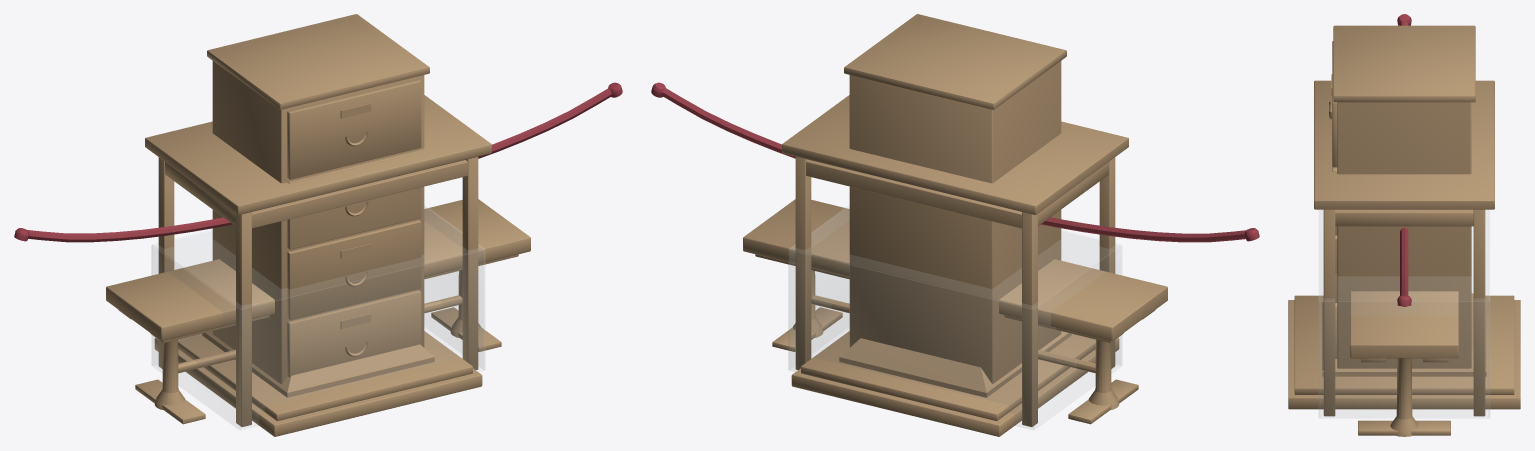
File: kit.d438275e.glb
3 renders of one model, left to right at view 1: azimuth 30°, elevation 25°; view 2: azimuth 150°, elevation 25°; view 3: azimuth 270°, elevation 25°, orthographic. The views are drawn at different scales.
Parts seen in each view (by area): view 1: archive-cabinet, vitrine-table, bench, plinth-tapered, vitrine-glass, rope-span; view 2: archive-cabinet, vitrine-table, bench, plinth-tapered, vitrine-glass, rope-span; view 3: archive-cabinet, vitrine-table, plinth-tapered, bench, vitrine-glass, rope-span.
Boxes of the visible parts, <box> form: archive-cabinet: <box>207,14,429,383</box>; vitrine-table: <box>145,95,491,426</box>; bench: <box>106,199,530,424</box>; plinth-tapered: <box>154,331,482,436</box>; vitrine-glass: <box>152,205,484,429</box>; rope-span: <box>14,82,622,242</box>; archive-cabinet: <box>844,14,1066,383</box>; vitrine-table: <box>782,95,1128,426</box>; bench: <box>743,199,1167,424</box>; plinth-tapered: <box>791,331,1119,436</box>; vitrine-glass: <box>789,205,1121,429</box>; rope-span: <box>651,82,1259,242</box>; archive-cabinet: <box>1329,25,1475,368</box>; vitrine-table: <box>1314,80,1494,416</box>; plinth-tapered: <box>1288,293,1520,409</box>; bench: <box>1350,291,1458,436</box>; vitrine-glass: <box>1319,210,1489,417</box>; rope-span: <box>1397,14,1411,306</box>.
Size of the model in its own units: 2.62 by 1.28 by 0.9001.
